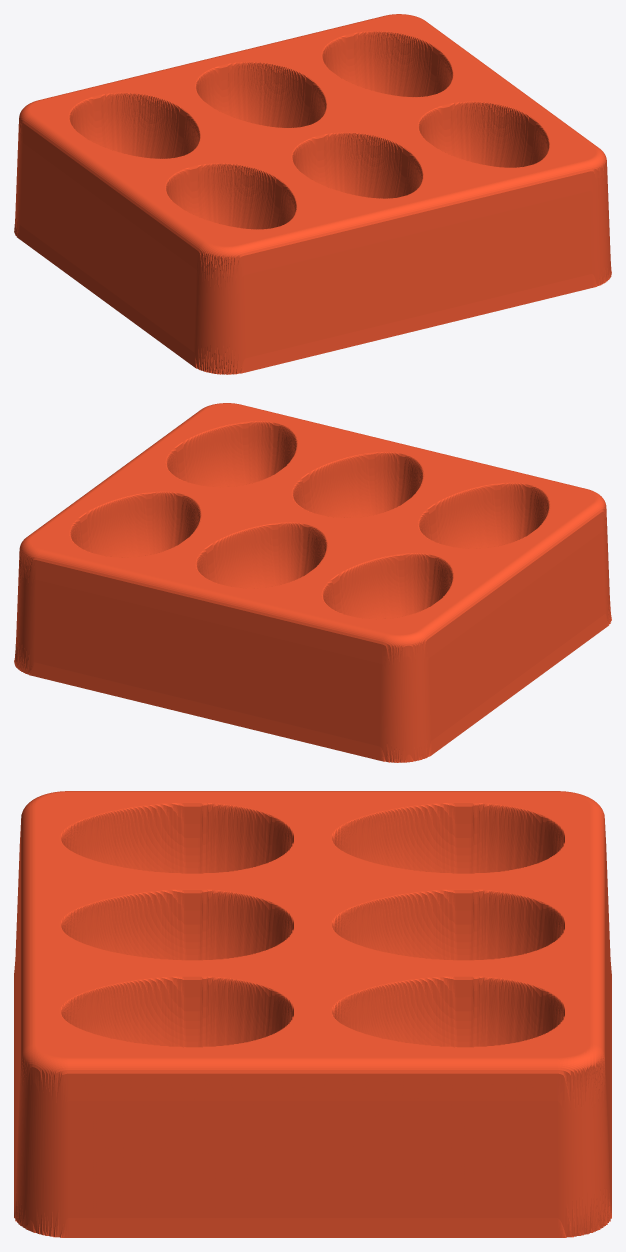
The model's file is mold.glb.
3 renders of one model, top to bottom at view 1: azimuth 30°, elevation 25°; view 2: azimuth 150°, elevation 25°; view 3: azimuth 270°, elevation 25°, orthographic. The views are drawn at different scales.
Parts seen in each view (by area): view 1: geometry_0; view 2: geometry_0; view 3: geometry_0.
Part boxes in pixels (left/top/right/bottom): geometry_0: left=14, top=14, right=611, bottom=374; geometry_0: left=14, top=403, right=611, bottom=762; geometry_0: left=14, top=791, right=611, bottom=1237.
Bounding box in the file's own units: 0.1118 × 0.0314 × 0.0996.
